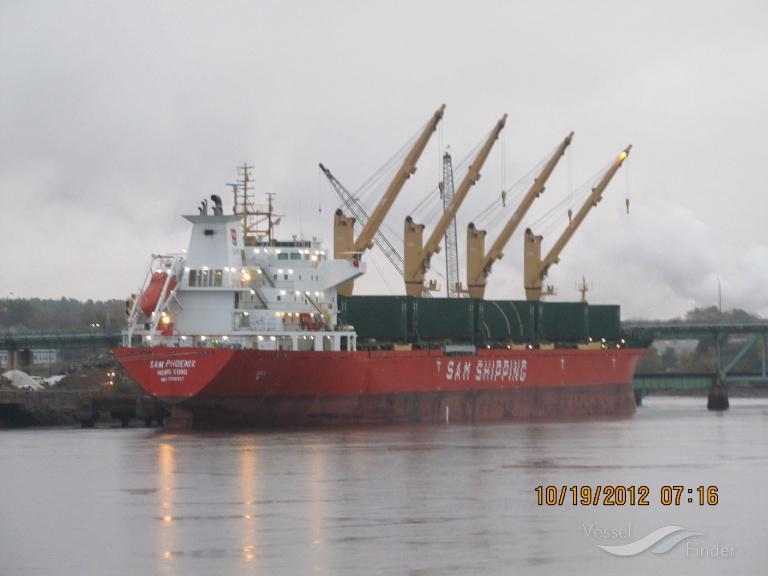OCR: (445, 360, 530, 386), (144, 352, 200, 388)
